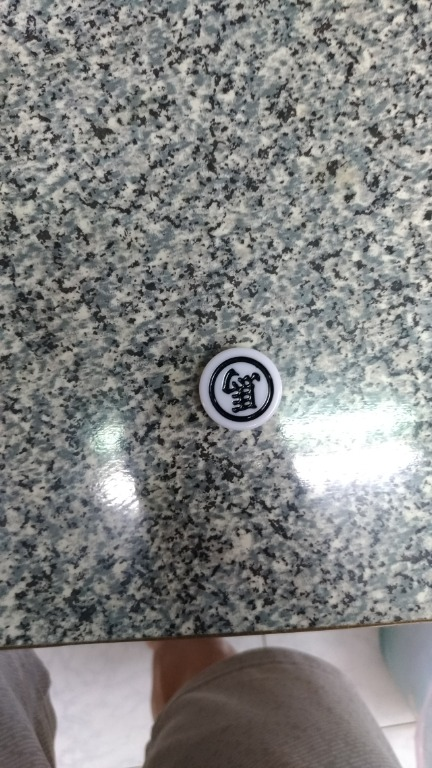b-knight: (187, 339, 303, 443)
